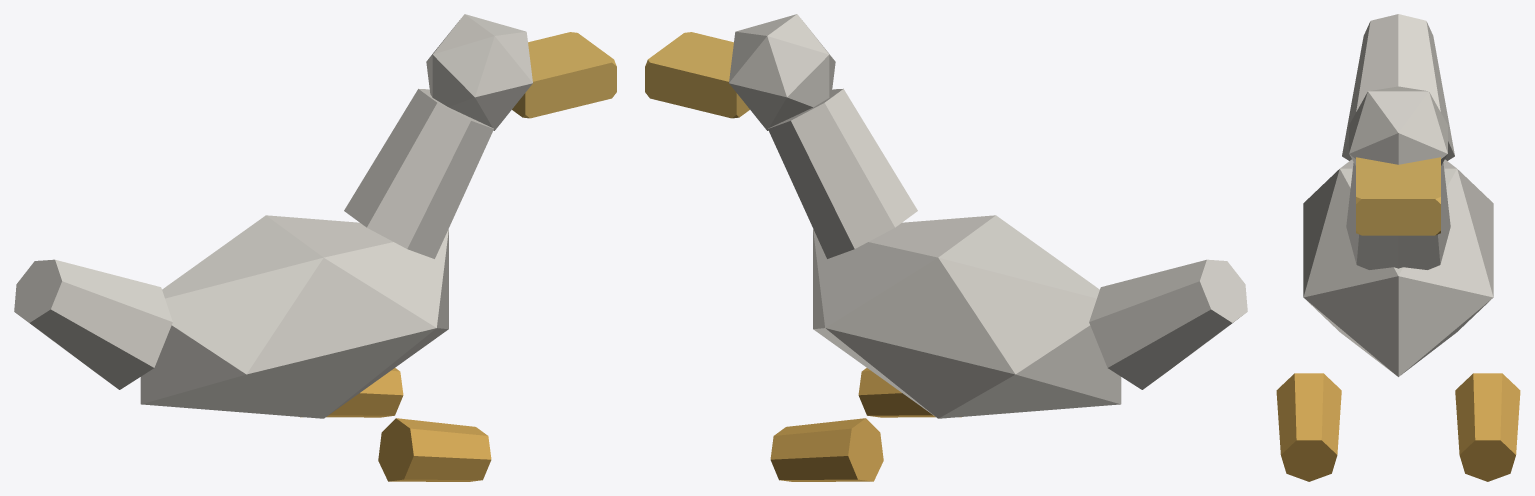
The picture shows the model from 3 angles, left to right: view 1: azimuth 30°, elevation 25°; view 2: azimuth 150°, elevation 25°; view 3: azimuth 270°, elevation 25°; orthographic projection.
Visible parts, largest first — view 1: part0, part1, part4, part2, part6, part3, part5; view 2: part0, part1, part4, part2, part5, part3, part6; view 3: part0, part2, part4, part3, part5, part6, part1.
Part boxes in pixels (<box>): part0: <box>140,215,448,418</box>; part1: <box>344,88,493,258</box>; part4: <box>14,259,172,389</box>; part2: <box>426,14,532,130</box>; part6: <box>378,418,491,481</box>; part3: <box>512,32,616,118</box>; part5: <box>300,368,403,417</box>; part0: <box>813,215,1121,418</box>; part1: <box>768,88,917,258</box>; part4: <box>1089,259,1247,389</box>; part2: <box>729,14,835,130</box>; part5: <box>770,418,883,481</box>; part3: <box>645,32,749,118</box>; part6: <box>858,368,961,417</box>; part0: <box>1303,159,1493,376</box>; part2: <box>1349,86,1447,165</box>; part4: <box>1342,14,1454,160</box>; part3: <box>1356,157,1440,235</box>; part5: <box>1455,373,1520,481</box>; part6: <box>1276,373,1341,481</box>; part1: <box>1346,162,1450,269</box>.
Bounding box in the file's own units: 3.01 × 2.06 × 1.09.
